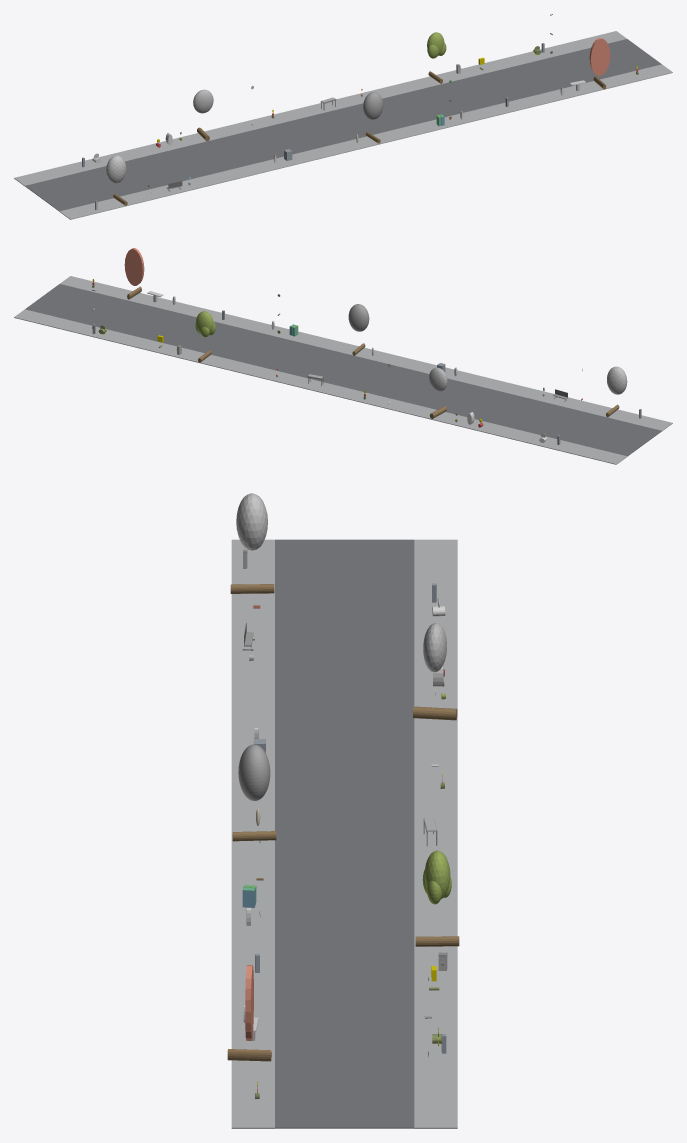
3 renders of one model, top to bottom at view 1: azimuth 30°, elevation 25°; view 2: azimuth 150°, elevation 25°; view 3: azimuth 270°, elevation 25°, orthographic. The views are drawn at different scales.
Parts seen in each view (by area): view 1: road_slab, sidewalk_left, sidewalk_right, inst_0016, inst_0012, inst_0014, inst_0013, inst_0015; view 2: road_slab, sidewalk_right, sidewalk_left, inst_0016, inst_0014, inst_0012, inst_0015, inst_0013; view 3: road_slab, sidewalk_right, sidewalk_left, inst_0012, inst_0014, inst_0015, inst_0013, inst_0016.
Part boxes in pixels (x1=…): road_slab: x1=25, y1=39, x2=661, y2=211; sidewalk_left: x1=59, y1=64, x2=672, y2=219; sidewalk_right: x1=14, y1=31, x2=626, y2=186; inst_0016: x1=589, y1=38, x2=610, y2=89; inst_0012: x1=106, y1=155, x2=127, y2=205; inst_0014: x1=363, y1=92, x2=383, y2=143; inst_0013: x1=193, y1=89, x2=213, y2=141; inst_0015: x1=427, y1=32, x2=446, y2=83; road_slab: x1=25, y1=284, x2=661, y2=456; sidewalk_right: x1=14, y1=309, x2=627, y2=464; sidewalk_left: x1=60, y1=276, x2=672, y2=431; inst_0016: x1=124, y1=248, x2=144, y2=299; inst_0014: x1=348, y1=304, x2=369, y2=355; inst_0012: x1=606, y1=366, x2=627, y2=417; inst_0015: x1=195, y1=311, x2=215, y2=362; inst_0013: x1=429, y1=367, x2=447, y2=418; road_slab: x1=275, y1=539, x2=414, y2=1128; sidewalk_right: x1=414, y1=539, x2=457, y2=1128; sidewalk_left: x1=231, y1=539, x2=274, y2=1128; inst_0012: x1=230, y1=493, x2=274, y2=593; inst_0014: x1=232, y1=744, x2=276, y2=841; inst_0015: x1=415, y1=850, x2=459, y2=946; inst_0013: x1=413, y1=623, x2=457, y2=720; inst_0016: x1=227, y1=965, x2=271, y2=1061.
Bounding box in the file's own units: 80 × 6.08 × 13.32.
